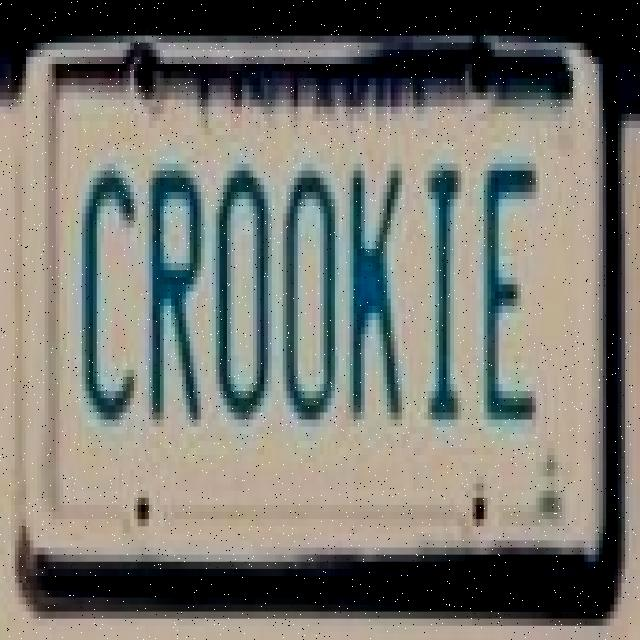licenseplate: (28, 34, 622, 580)
